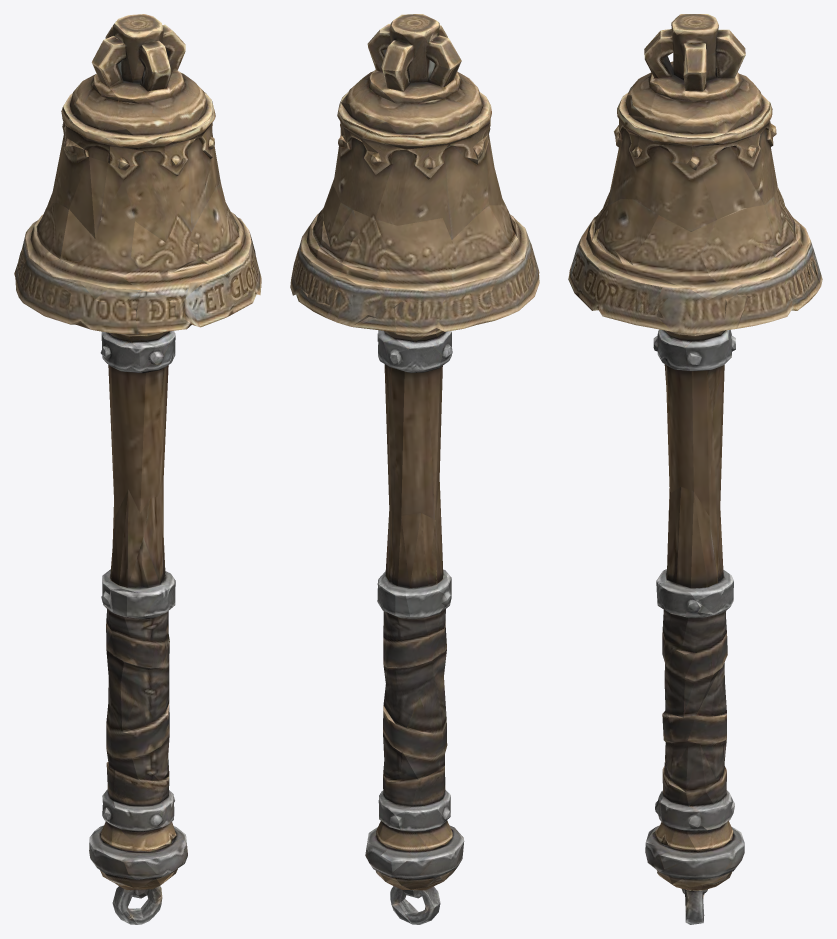
File: campanaro.glb
The picture shows the model from 3 angles, left to right: view 1: azimuth 30°, elevation 25°; view 2: azimuth 150°, elevation 25°; view 3: azimuth 270°, elevation 25°; orthographic projection.
Parts seen in each view (by area): view 1: Mesh_0; view 2: Mesh_0; view 3: Mesh_0.
Boxes of the visible parts, x1,y1,x2,y2 form: Mesh_0: (14, 14, 261, 924); Mesh_0: (290, 14, 539, 924); Mesh_0: (568, 14, 822, 924).
Size of the model in its own units: 0.487 by 1.9 by 0.4863.
Materials: 1 (1 with a texture image).
